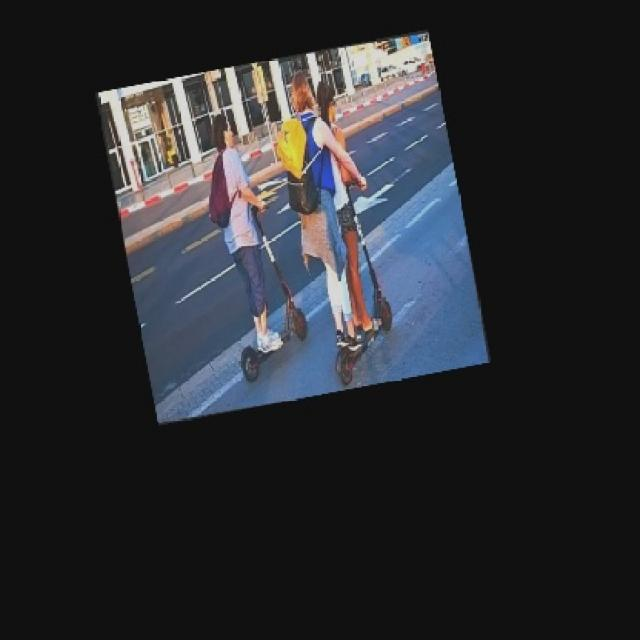bare_head: (317, 83, 348, 130), (288, 77, 320, 117), (211, 113, 239, 154)
human: (274, 75, 365, 354), (203, 111, 289, 354), (313, 78, 379, 336)
kickboard: (337, 290, 407, 382), (243, 301, 311, 387)
